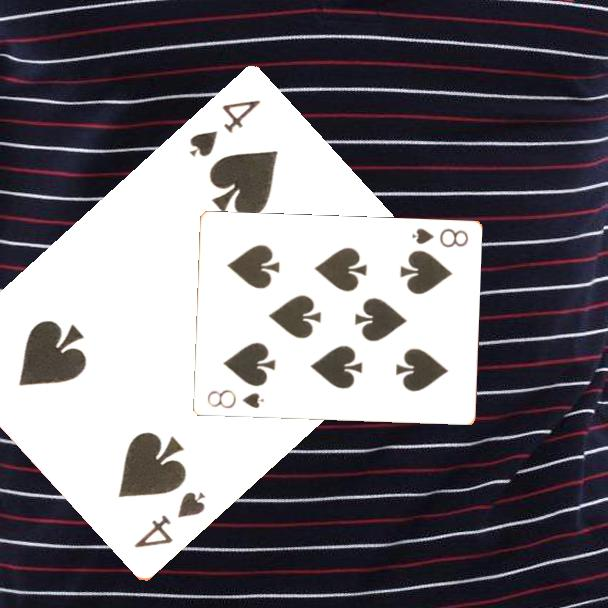s04: (186, 96, 264, 161), (130, 488, 209, 552)
s08: (408, 225, 471, 251), (204, 386, 266, 411)
